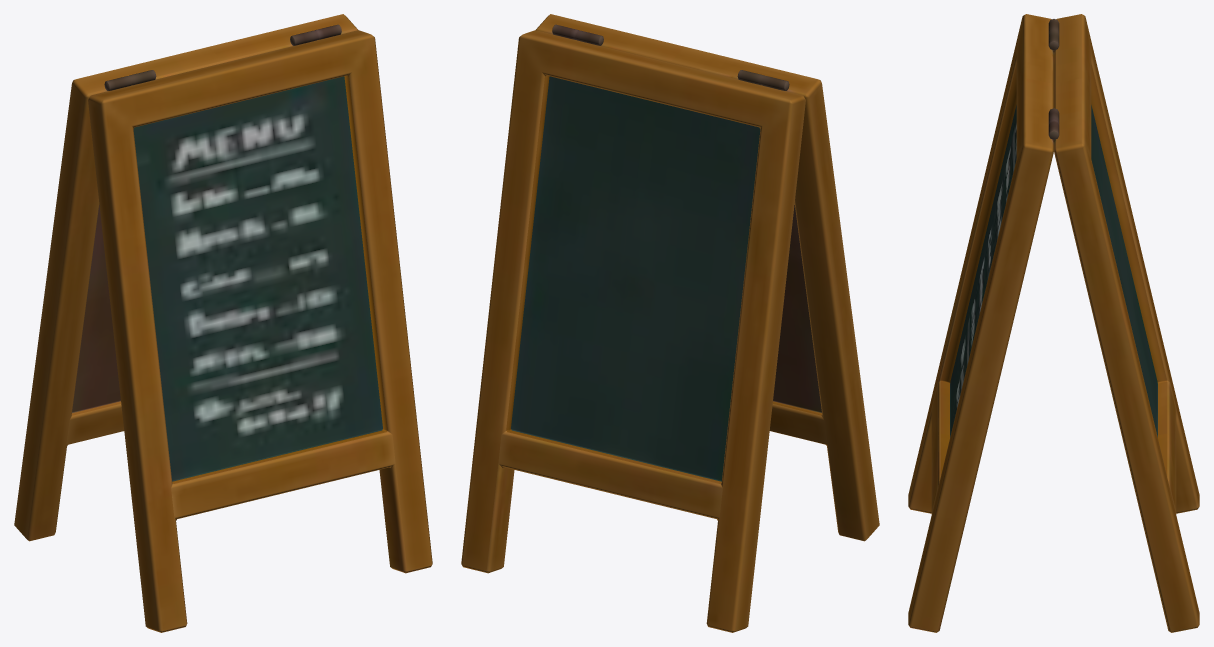
3 views of the same model, side by side, from view 1: azimuth 30°, elevation 25°; view 2: azimuth 150°, elevation 25°; view 3: azimuth 270°, elevation 25° (orthographic).
Bounding box in the file's own units: 5.3 × 9.22 × 4.93.
1 material, 1 textured.
